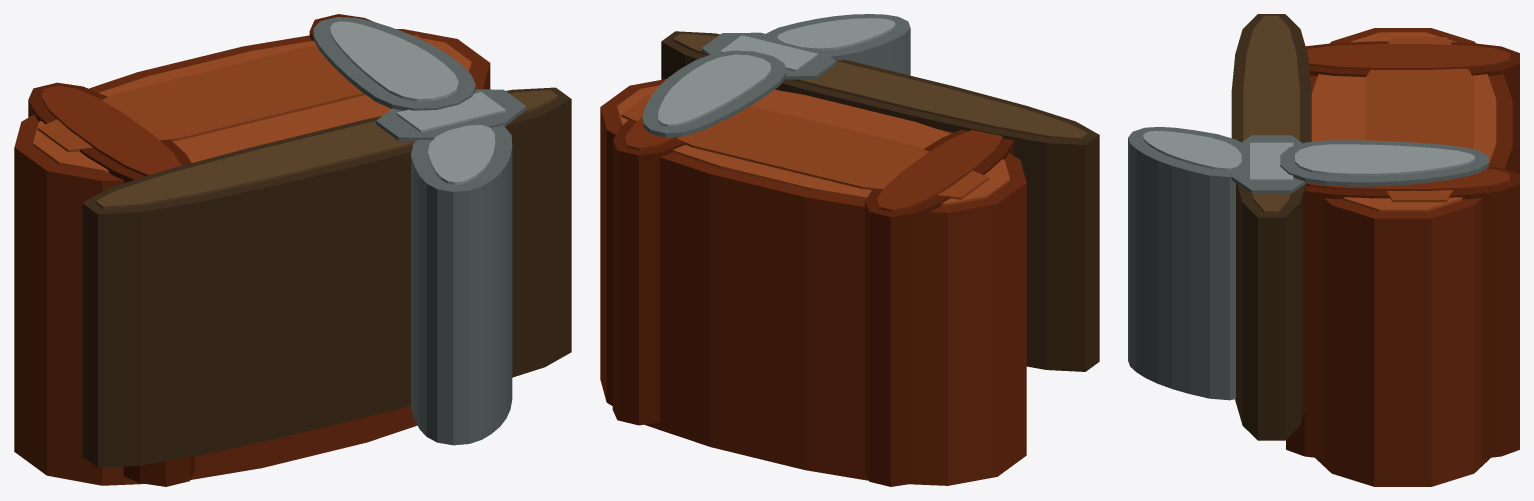
File: bag_picareta_pedra.fbx
3 views of the same model, side by side, from view 1: azimuth 30°, elevation 25°; view 2: azimuth 150°, elevation 25°; view 3: azimuth 270°, elevation 25° (orthographic). The views are drawn at different scales.
Visible parts, largest first — view 1: bag_picareta_pedra_mochila; view 2: bag_picareta_pedra_mochila; view 3: bag_picareta_pedra_mochila.
Boxes of the visible parts, x1,y1,x2,y2 form: bag_picareta_pedra_mochila: (14,14,571,486); bag_picareta_pedra_mochila: (600,14,1099,486); bag_picareta_pedra_mochila: (1128,14,1519,486).
Bounding box in the file's own units: 2.89 × 1.91 × 2.36.
Materials: 1 (1 with a texture image).
